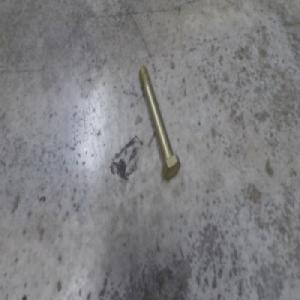Bolt: (139, 60, 180, 181)
